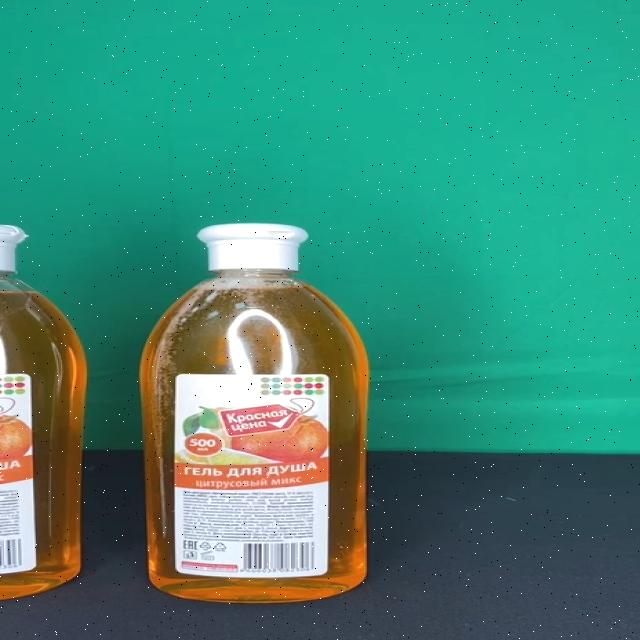Bottle: (139, 222, 370, 603)
Cap: (195, 223, 308, 272)
